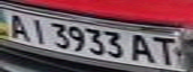3: (103, 28, 130, 60), (45, 20, 72, 50), (84, 26, 106, 56)
9: (63, 24, 87, 53)
A: (127, 31, 157, 64), (3, 11, 33, 40)
I: (24, 16, 51, 44)
T: (148, 34, 184, 66)
